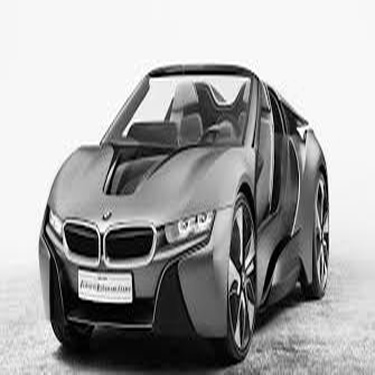car: (29, 58, 337, 365)
